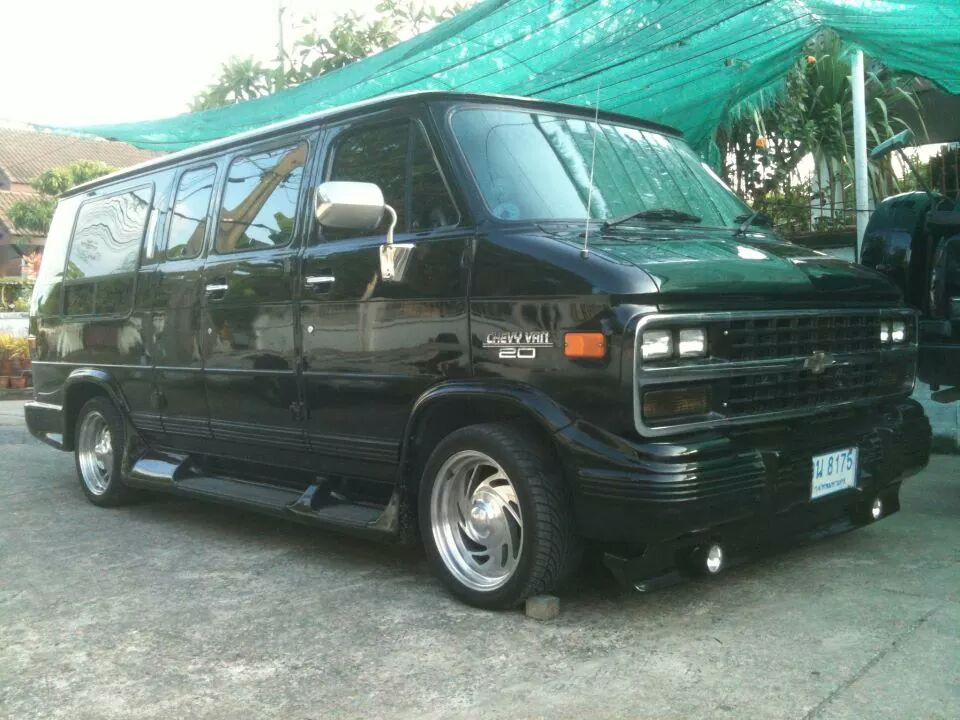van: (19, 82, 937, 616)
